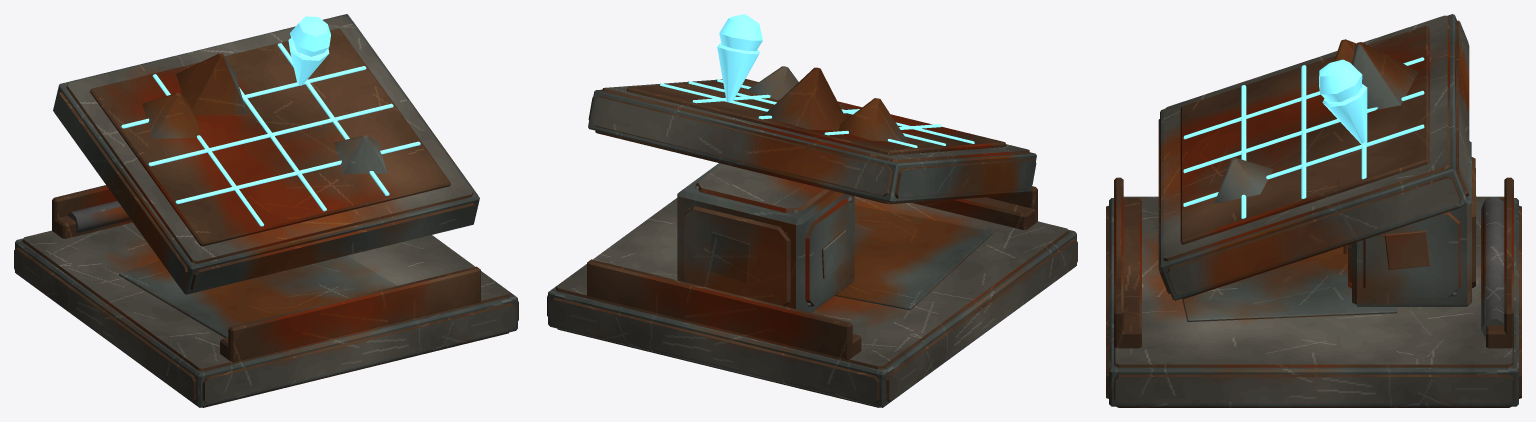
Rendered from R4X_Minimap.glb.
3 renders of one model, left to right at view 1: azimuth 30°, elevation 25°; view 2: azimuth 150°, elevation 25°; view 3: azimuth 270°, elevation 25°, orthographic. The views are drawn at different scales.
Parts seen in each view (by area): view 1: R4X_Minimap_Body; view 2: R4X_Minimap_Body; view 3: R4X_Minimap_Body.
Boxes of the visible parts, left/top/right/bottom form: R4X_Minimap_Body: left=14, top=14, right=518, bottom=407; R4X_Minimap_Body: left=547, top=14, right=1077, bottom=407; R4X_Minimap_Body: left=1106, top=14, right=1521, bottom=407.
Bounding box in the file's own units: 0.52 × 0.403 × 0.52.
Materials: 5 (4 with a texture image).
